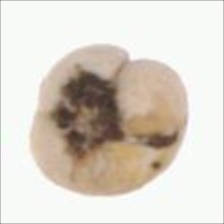L5: (51, 68, 132, 159)
L6: (24, 41, 194, 197)
